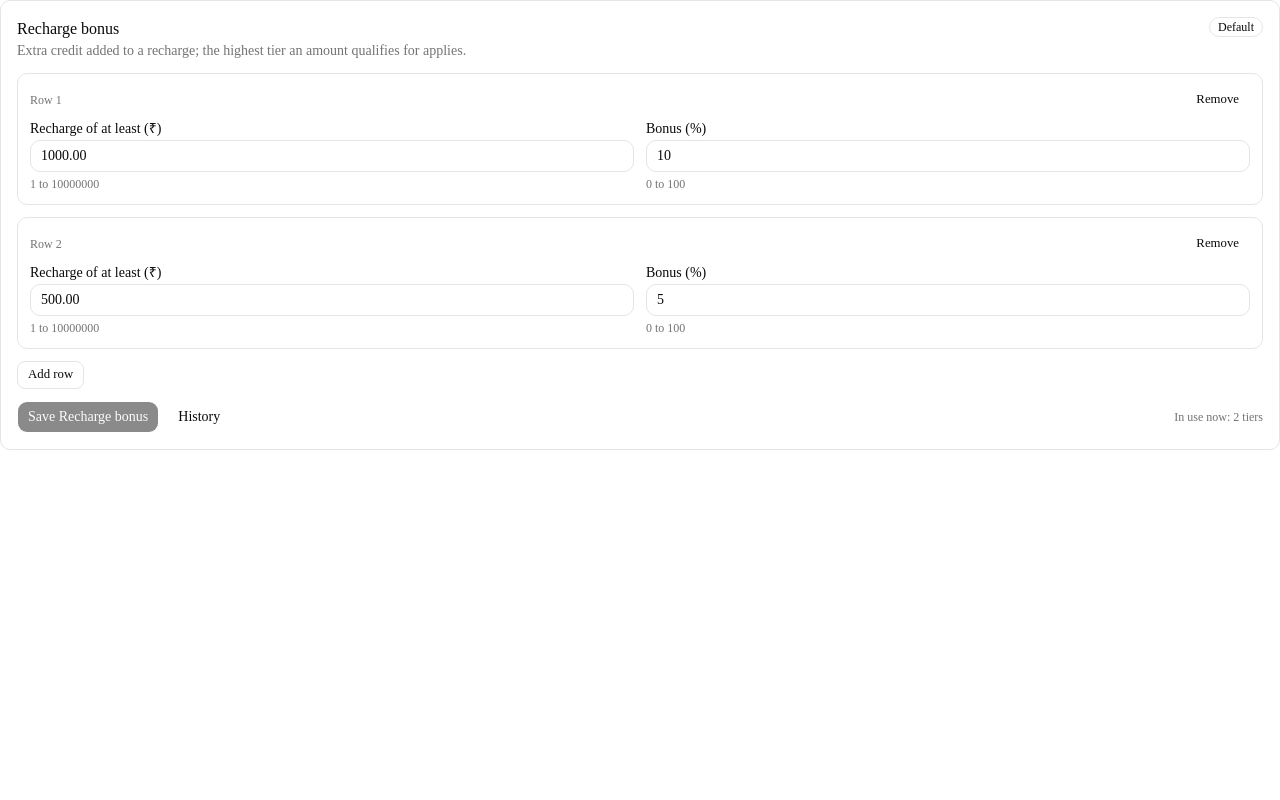
SettingCard › adds and removes rows of a list setting
Expected: the number of buttons "Remove" is 2, [1185,86,1250,114]; [1185,230,1250,258]
What coordinates should you click on to do the following:
click the button "Add row"
I would click on:
 (51, 375)
Its box is [17,361,84,389].
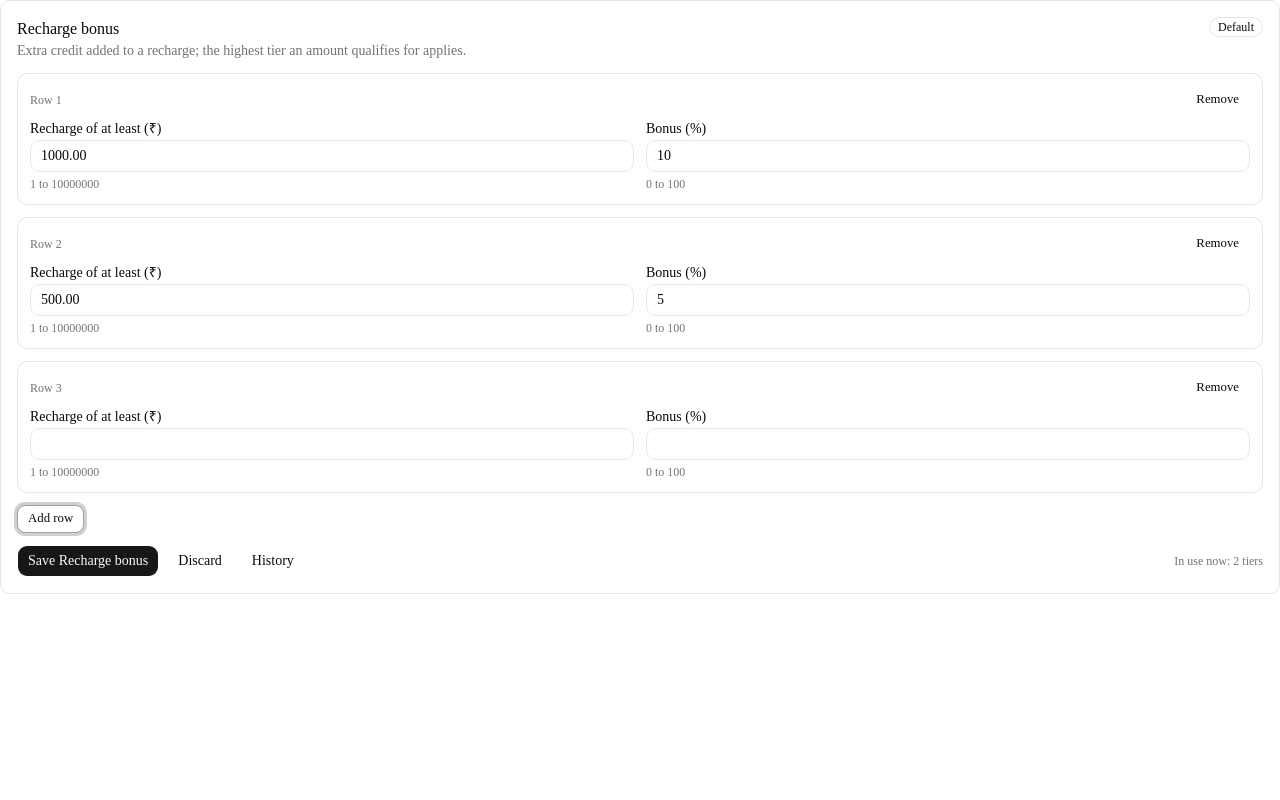
Result: the number of buttons "Remove" is 3
Result: the button "Save Recharge bonus" is enabled at [17,545,159,577]
What coordinates should you click on to do the following:
click the 3rd button "Remove"
I would click on:
 (1218, 388)
Its box is [1185,374,1250,402].
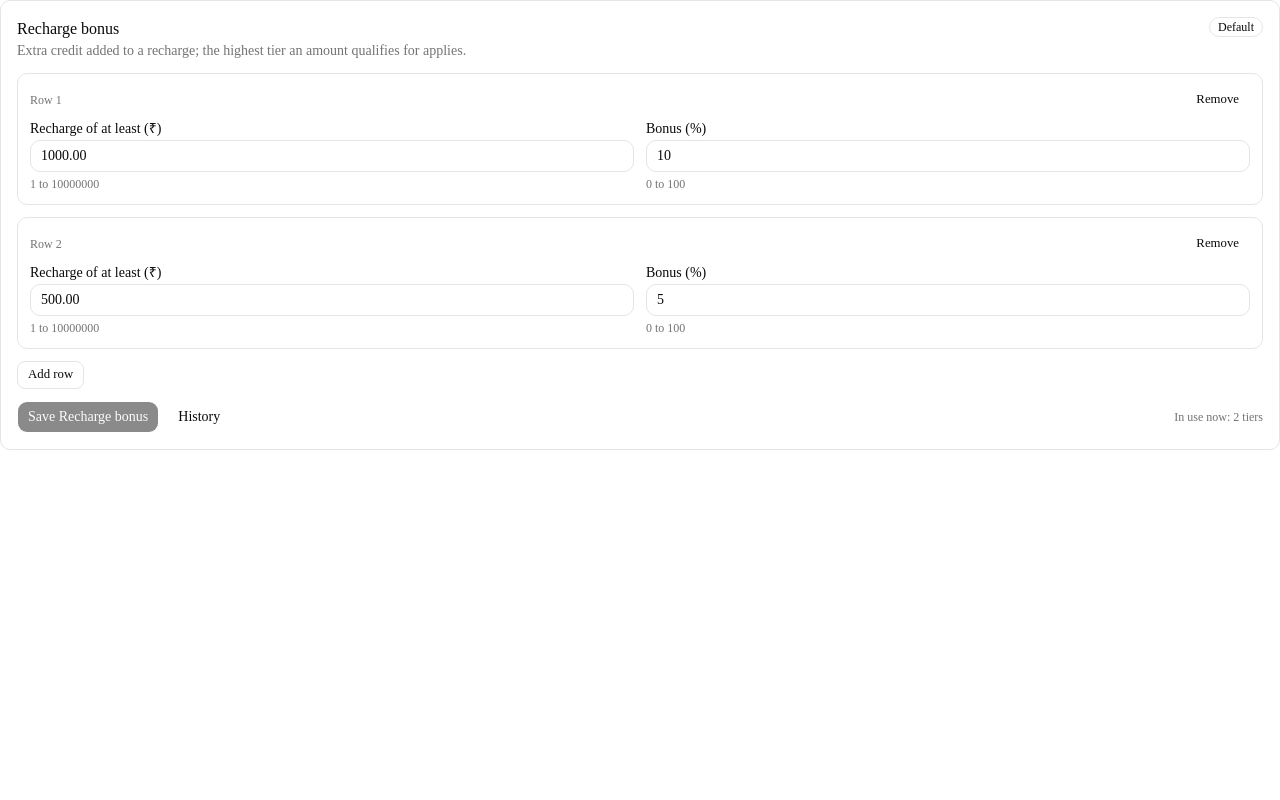
Result: the button "Save Recharge bonus" is disabled at [17,401,159,433]
